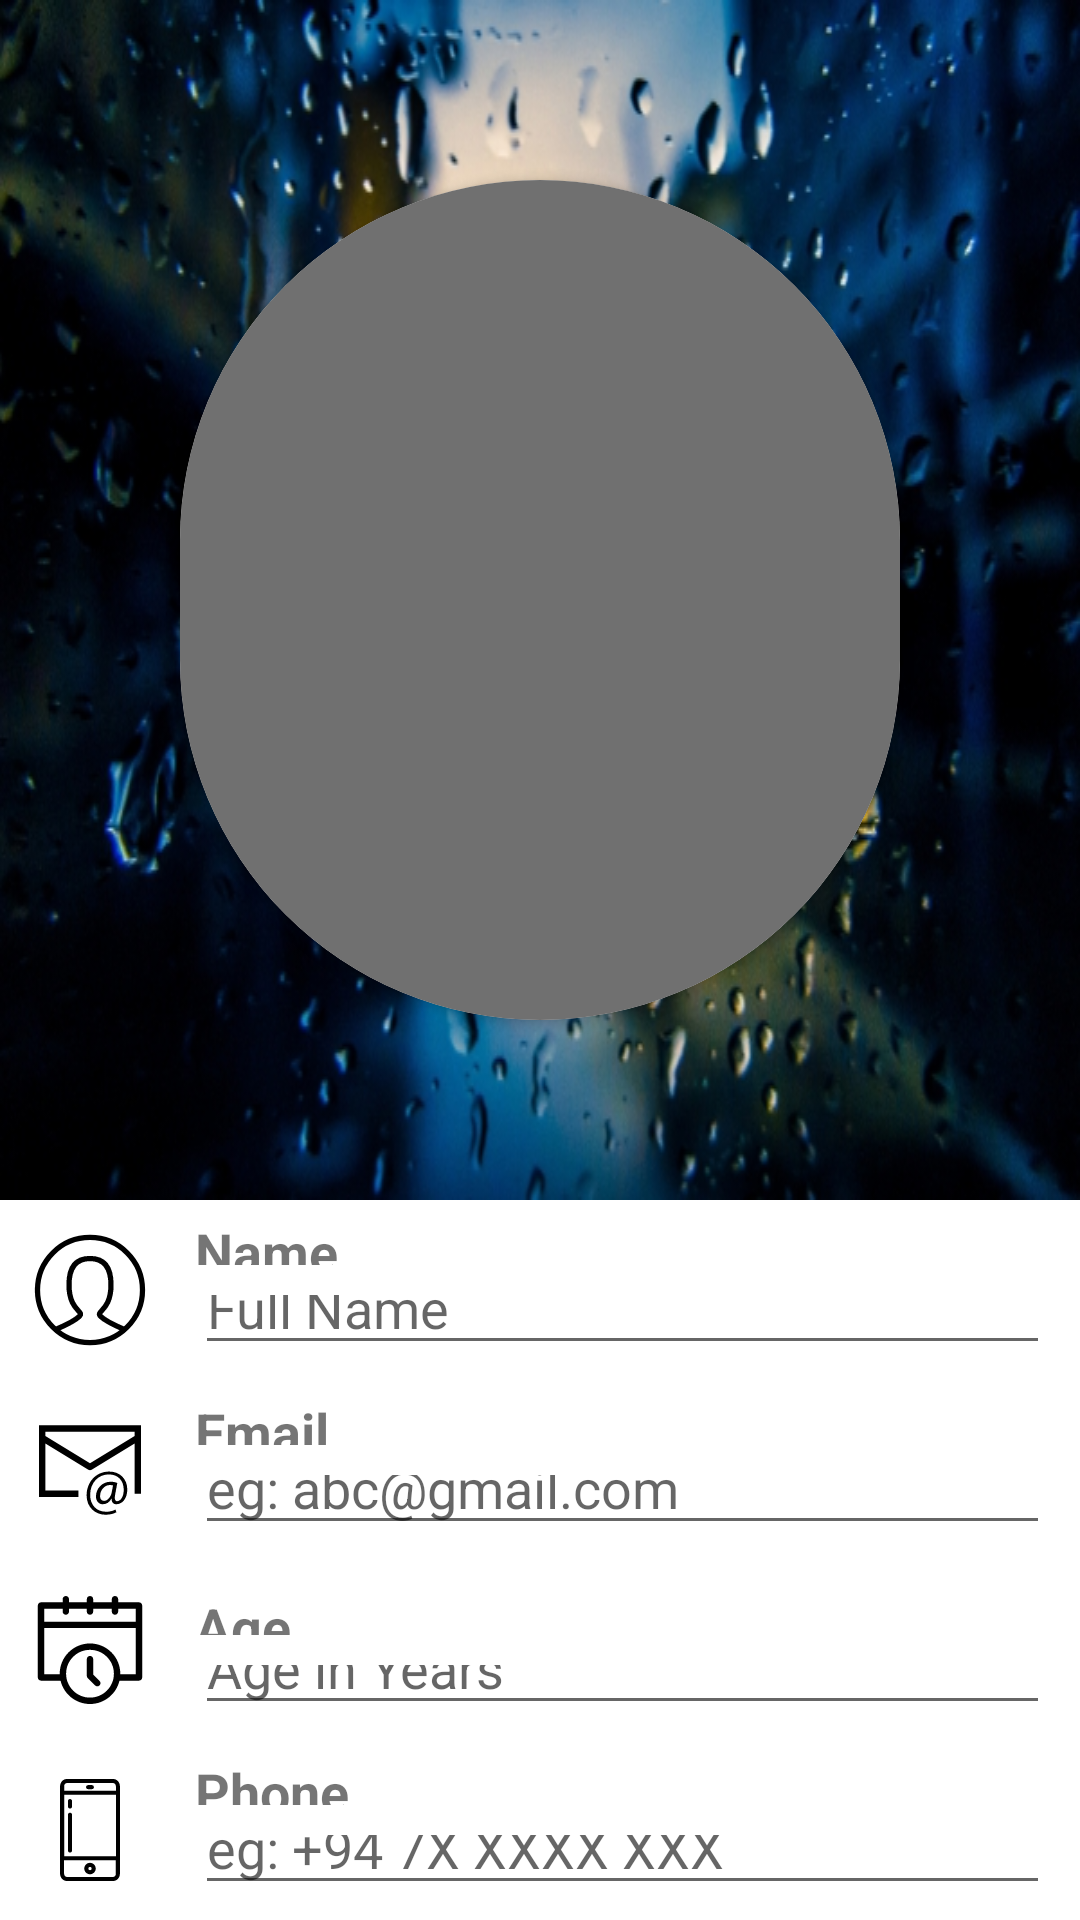

Icon bounding boxes for this 1080×1920 phone screenshot, format [x1,y1,x2,y2]:
user: [34,1234,145,1346]
